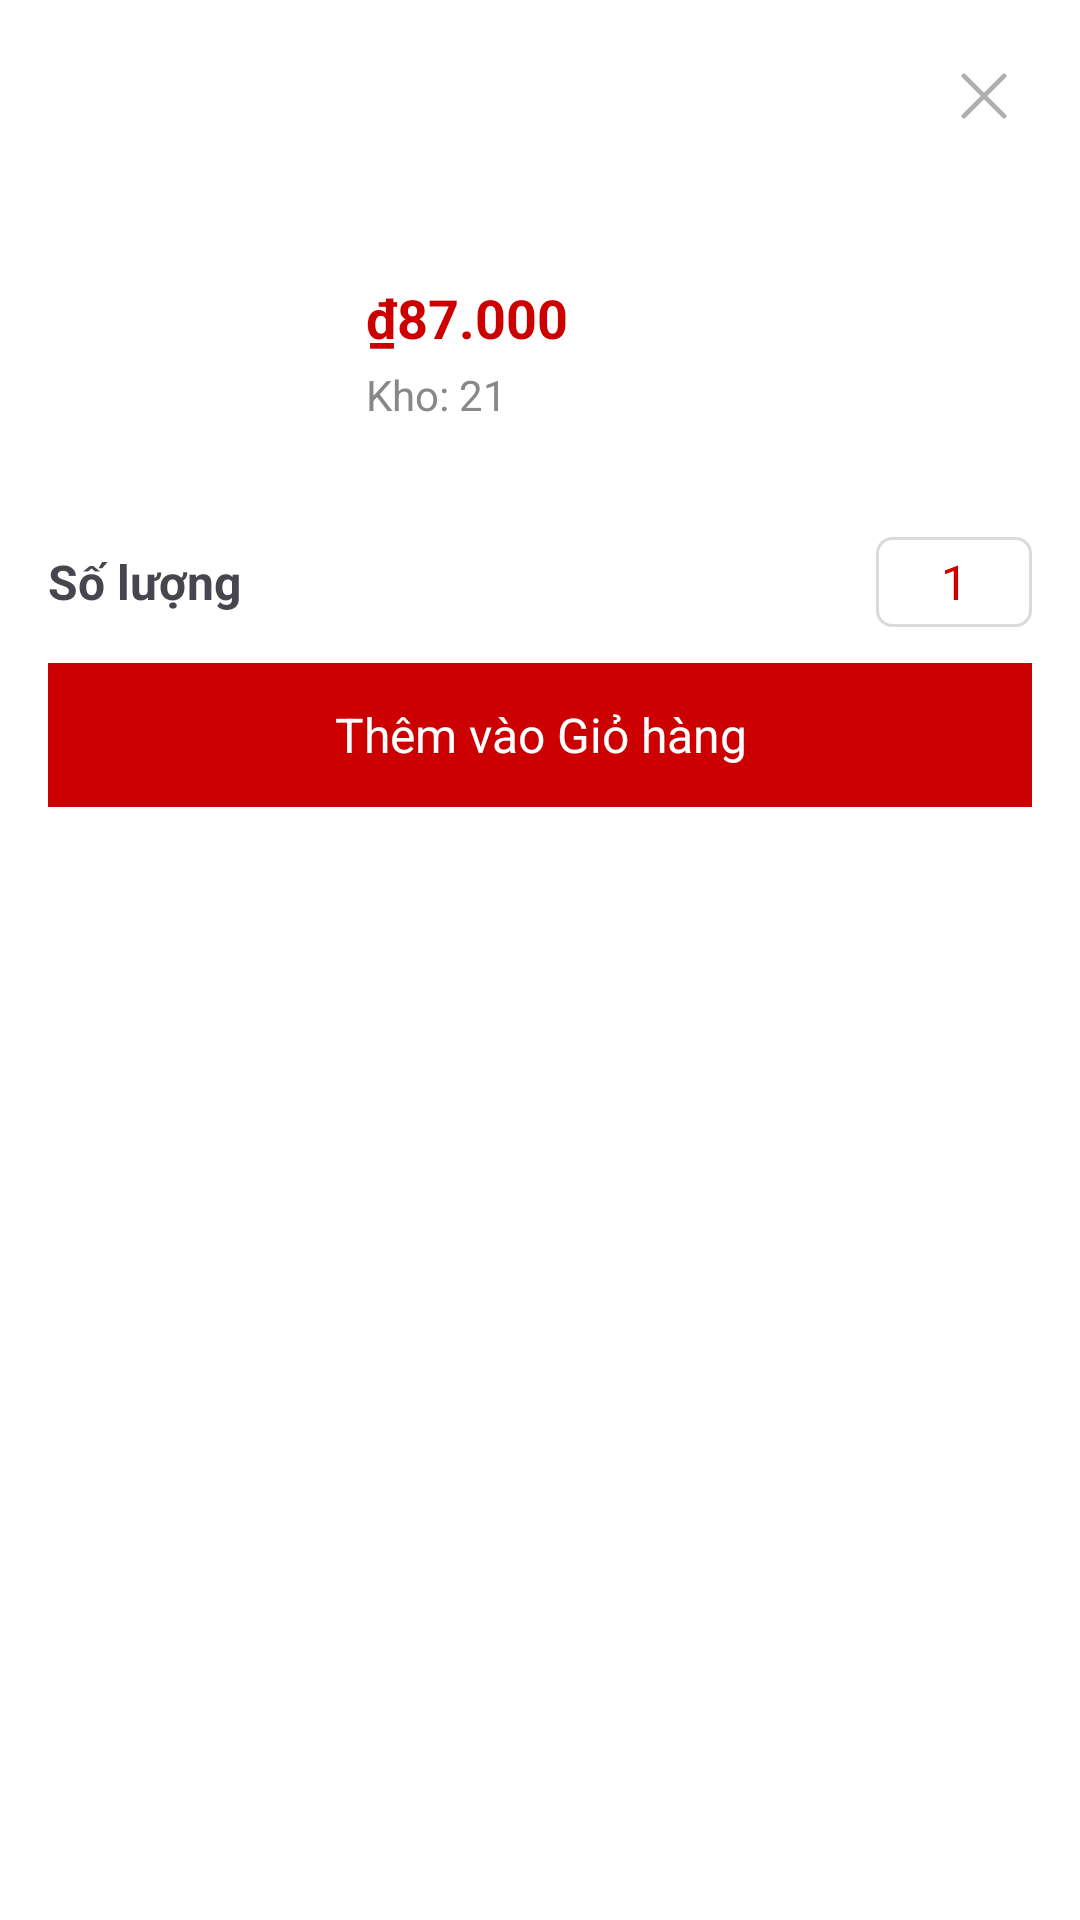

Point at icon controls on the screen. Image size 1080 × 1920, points as (x=x, y=y).
Đóng: (x=984, y=96)
